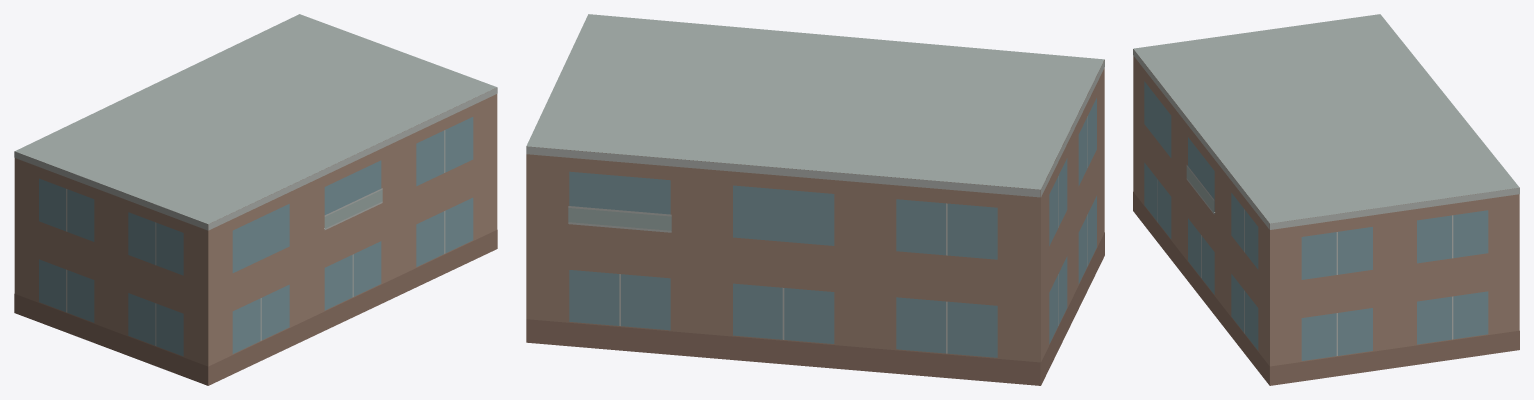
File: survey-upis-32784022.glb
3 renders of one model, left to right at view 1: azimuth 30°, elevation 25°; view 2: azimuth 150°, elevation 25°; view 3: azimuth 270°, elevation 25°, orthographic. The views are drawn at different scales.
Visible parts, largest first — view 1: survey-upis-32784022.tmp; view 2: survey-upis-32784022.tmp; view 3: survey-upis-32784022.tmp.
Boxes of the visible parts, box(x1,y1,x2,y2) form: survey-upis-32784022.tmp: box(14, 14, 497, 385); survey-upis-32784022.tmp: box(526, 14, 1104, 385); survey-upis-32784022.tmp: box(1133, 14, 1519, 385).
Bounding box in the file's own units: 16.9 × 6.1 × 13.18.
